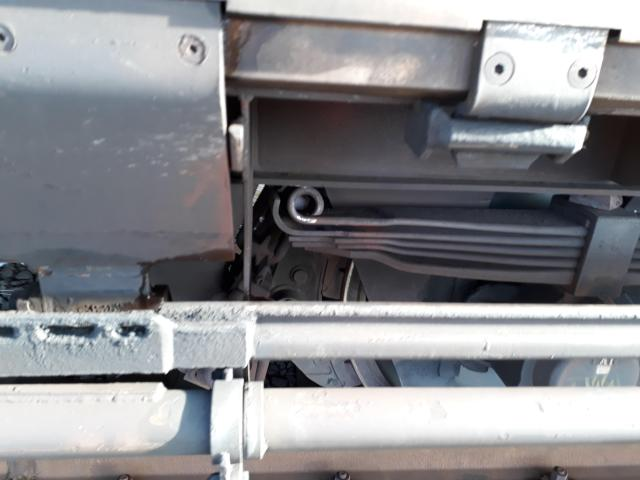blattfederww: (262, 181, 611, 286)
